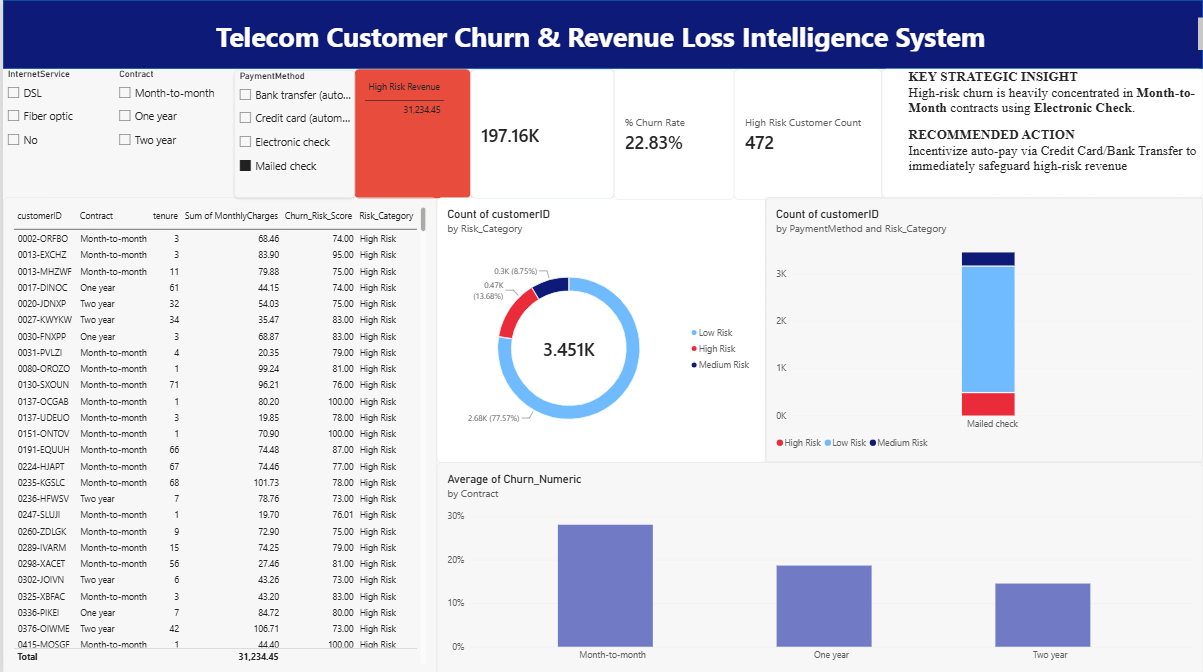

Layout of this report page (visuals, bound fields, positions):
{"tool":"powerbi","page":{"name":"Page 1","canvas":[1920,1080],"ordinal":0},"visuals":[{"type":"tableEx","fields":{"Values":["Processed_Customer_Churn_Data.High Risk Revenue"]},"box":[562,110,186,208],"z":0},{"type":"donutChart","fields":{"Category":["Processed_Customer_Churn_Data.Risk_Category"],"Y":["CountNonNull(Processed_Customer_Churn_Data.customerID)"]},"box":[694,316,526,424],"z":1000},{"type":"clusteredColumnChart","fields":{"Category":["Processed_Customer_Churn_Data.Contract"],"Y":["Avg(Processed_Customer_Churn_Data.Churn_Numeric)"]},"box":[694,740,1226,340],"z":2000},{"type":"tableEx","fields":{"Values":["Processed_Customer_Churn_Data.customerID","Processed_Customer_Churn_Data.Contract","Processed_Customer_Churn_Data.tenure","Sum(Processed_Customer_Churn_Data.MonthlyCharges)","Processed_Customer_Churn_Data.Churn_Risk_Score","Processed_Customer_Churn_Data.Risk_Category"]},"box":[0,316,694,764],"z":3000},{"type":"slicer","fields":{"Values":["Processed_Customer_Churn_Data.InternetService"]},"box":[0,110,177.5,205],"z":3001},{"type":"slicer","fields":{"Values":["Processed_Customer_Churn_Data.Contract"]},"box":[178,110,192.5,205],"z":3002},{"type":"slicer","fields":{"Values":["Processed_Customer_Churn_Data.PaymentMethod"]},"box":[370,112,193.6,204.5],"z":3003},{"type":"cardVisual","fields":{"Data":["Processed_Customer_Churn_Data.High Risk Customer Count"]},"box":[1170,110,236,210],"z":3004},{"type":"cardVisual","fields":{"Data":["Processed_Customer_Churn_Data.% Churn Rate"]},"box":[978,110,192,210],"z":3005},{"type":"cardVisual","title":"TOTAL MONTHLY REVENUE","fields":{"Data":["Sum(Processed_Customer_Churn_Data.MonthlyCharges)"]},"box":[748,110,230,208],"z":3006},{"type":"columnChart","fields":{"Category":["Processed_Customer_Churn_Data.PaymentMethod"],"Series":["Processed_Customer_Churn_Data.Risk_Category"],"Y":["CountNonNull(Processed_Customer_Churn_Data.customerID)"]},"box":[1220,316,700,424],"z":3007},{"type":"shape","box":[0,0,1920,110],"z":3008},{"type":"textbox","box":[0,28,1920,54],"z":3009},{"type":"textbox","box":[1406,110,514,206],"z":3010}]}

Visuals, with their boxes in screenshot pixels (x1, y1, x2, y2), scaled from the page's 1920x1080 canvas onto the 1203x672 screenshot:
tableEx - Processed_Customer_Churn_Data.High Risk Revenue: locate(352, 68, 469, 198)
donutChart - Processed_Customer_Churn_Data.Risk_Category x CountNonNull(Processed_Customer_Churn_Data.customerID): locate(435, 197, 764, 460)
clusteredColumnChart - Processed_Customer_Churn_Data.Contract x Avg(Processed_Customer_Churn_Data.Churn_Numeric): locate(435, 460, 1202, 671)
tableEx - Processed_Customer_Churn_Data.customerID x Processed_Customer_Churn_Data.Contract: locate(0, 197, 435, 671)
slicer - Processed_Customer_Churn_Data.InternetService: locate(0, 68, 111, 196)
slicer - Processed_Customer_Churn_Data.Contract: locate(112, 68, 232, 196)
slicer - Processed_Customer_Churn_Data.PaymentMethod: locate(232, 70, 353, 197)
cardVisual - Processed_Customer_Churn_Data.High Risk Customer Count: locate(733, 68, 881, 199)
cardVisual - Processed_Customer_Churn_Data.% Churn Rate: locate(613, 68, 733, 199)
"TOTAL MONTHLY REVENUE" cardVisual: locate(469, 68, 613, 198)
columnChart - Processed_Customer_Churn_Data.PaymentMethod x Processed_Customer_Churn_Data.Risk_Category: locate(764, 197, 1202, 460)
shape: locate(0, 0, 1202, 68)
textbox: locate(0, 17, 1202, 51)
textbox: locate(881, 68, 1202, 197)
